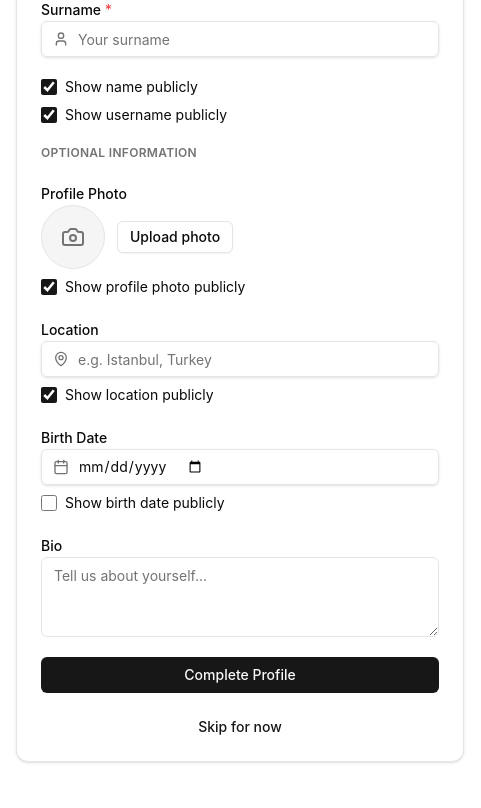
Test case: ProfileCompletionPage › shows errors when required fields are empty on submit
(page scrolled)
Click the button "Complete Profile": (240, 675) [41, 657, 439, 693]
(page scrolled)
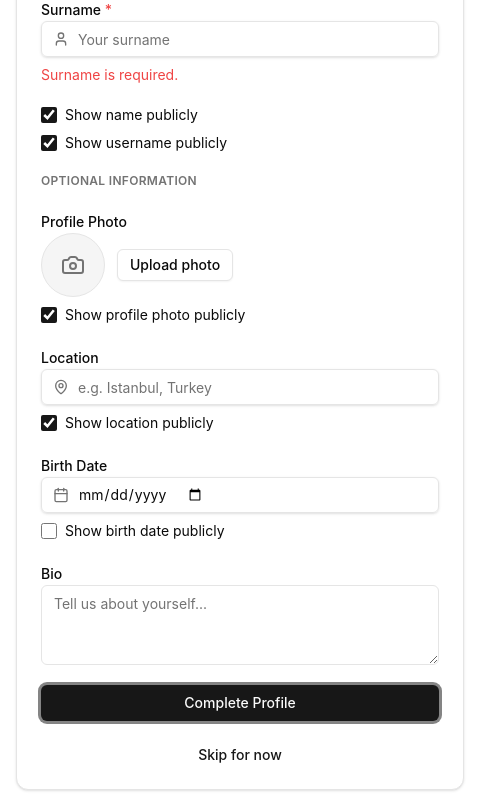
Now the text "Surname is required." is shown, box [41, 66, 178, 83]
